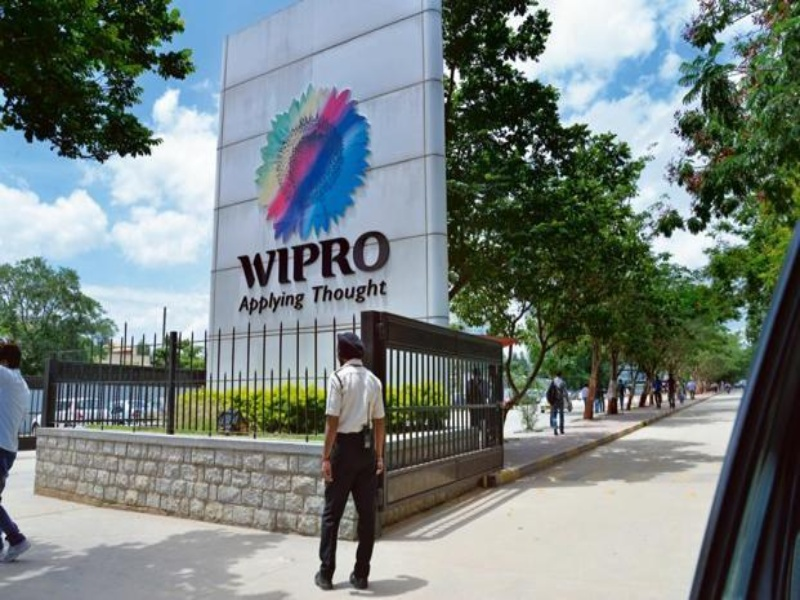wipro: (246, 85, 395, 234)
